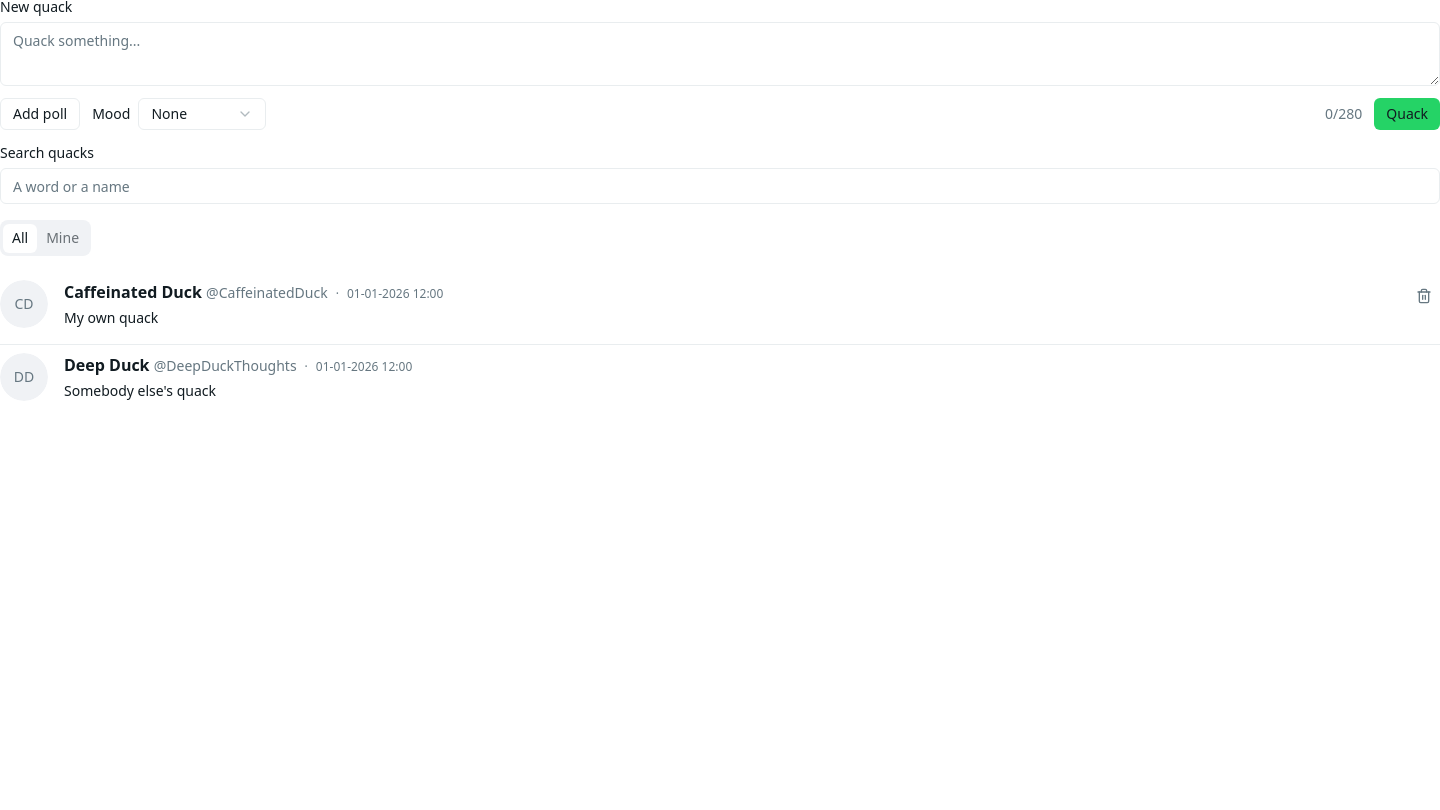
Test: QuackFeed delete and Mine › deleting › keeps the dialog open with the reason when the server refuses
Expected: the text "My own quack" is shown, [64, 308, 158, 327]
Click the button named "Delete quack" at (1424, 296), box [1408, 280, 1439, 312]
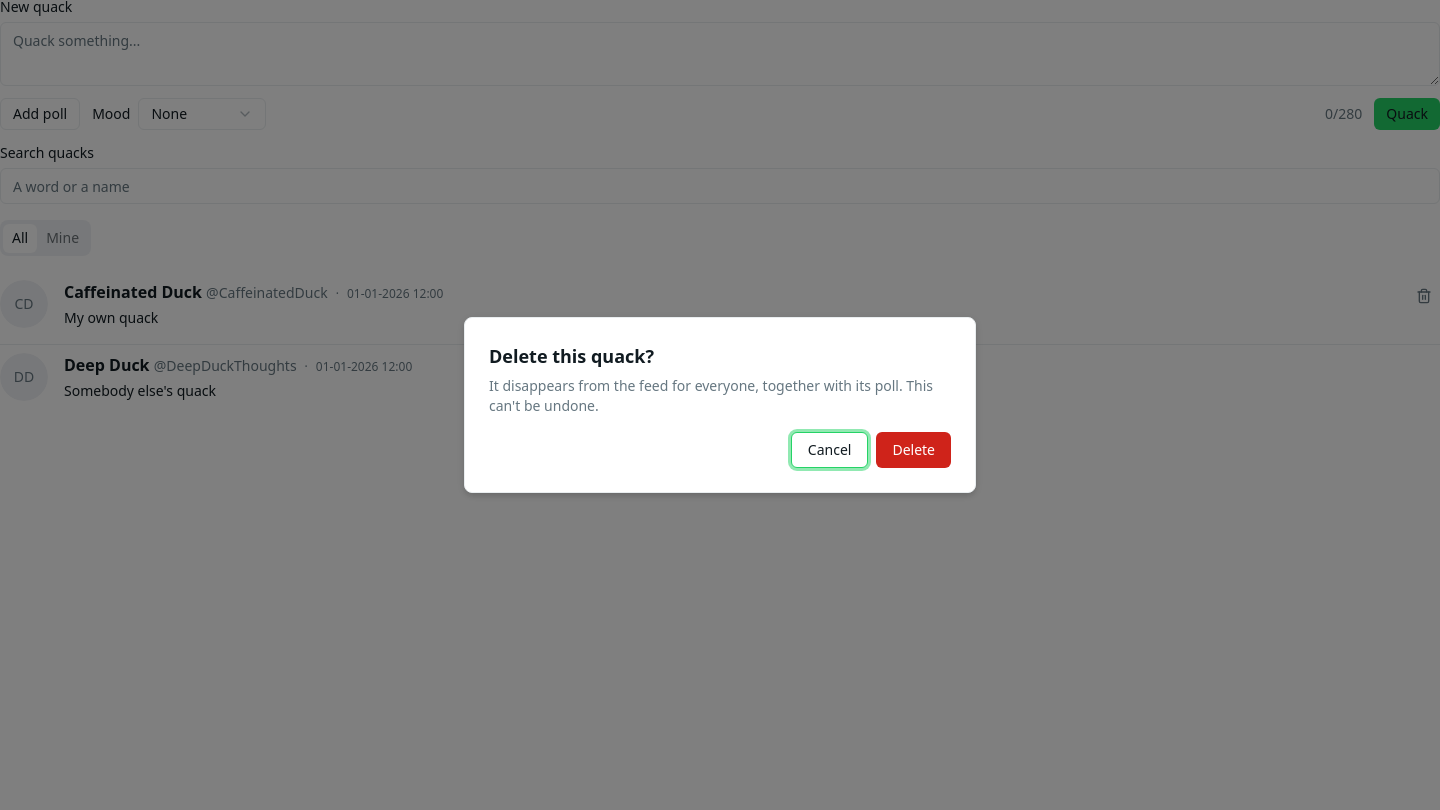
Click the button "Delete" at (914, 450), box [876, 432, 951, 468]
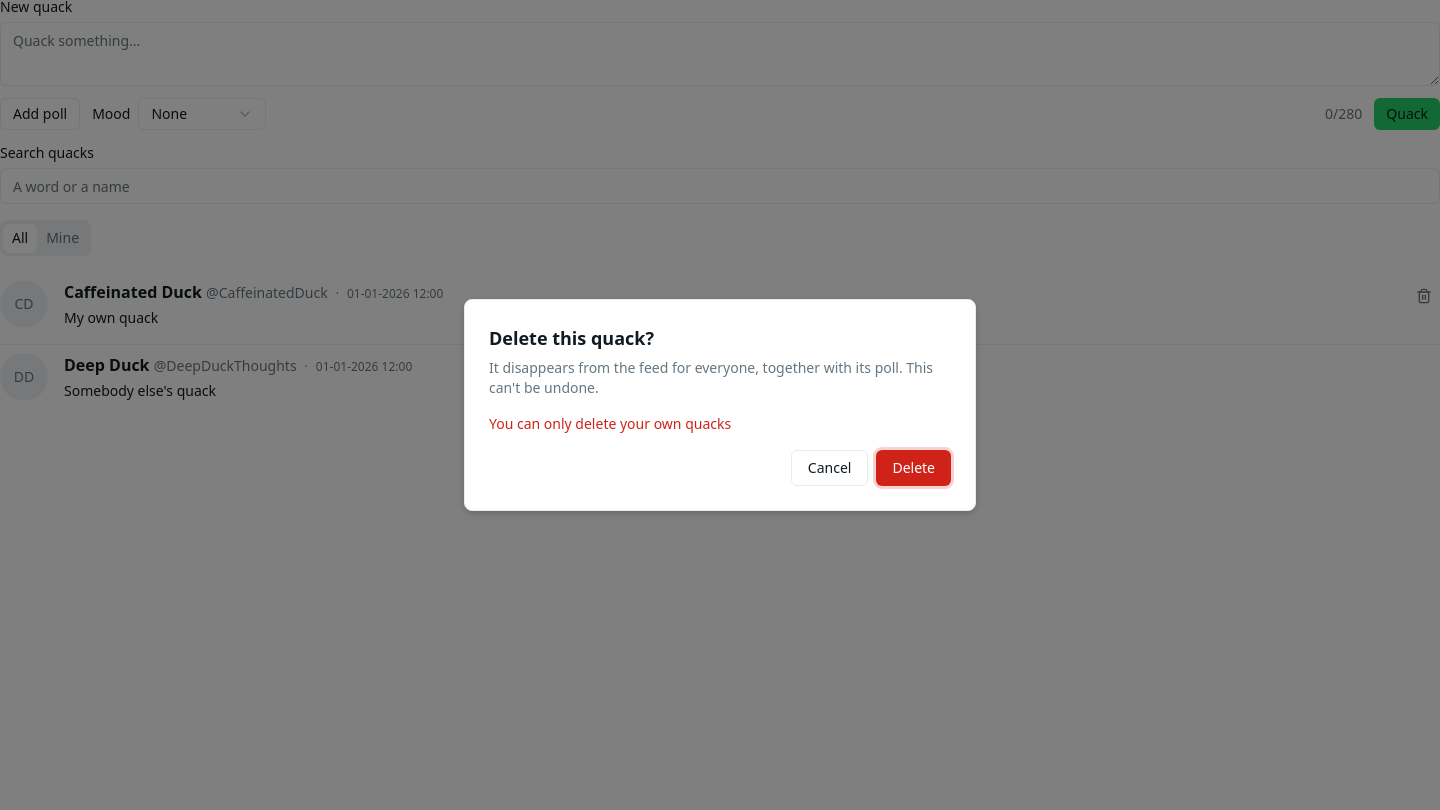
Expected: the text "My own quack" is shown, [64, 308, 158, 327]
Now the dialog is shown, box [464, 299, 976, 511]
Now the message reads "You can only delete your own quacks", box [489, 414, 731, 433]
